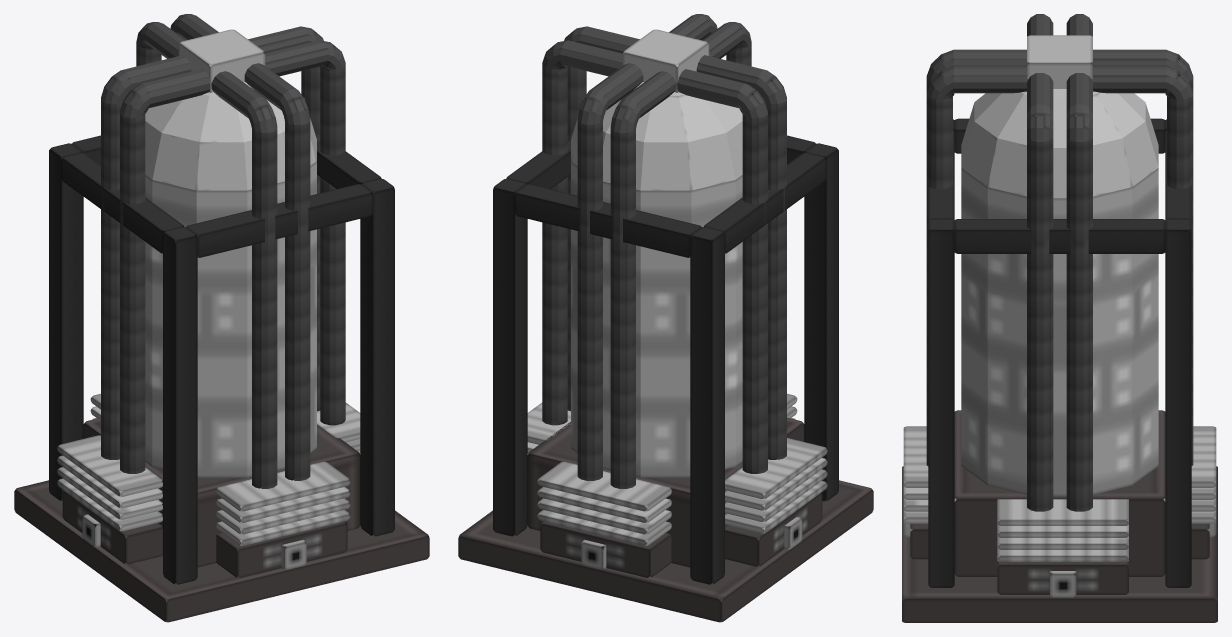
Rendered from industrial_boiler.obj.
The picture shows the model from 3 angles, left to right: view 1: azimuth 30°, elevation 25°; view 2: azimuth 150°, elevation 25°; view 3: azimuth 270°, elevation 25°; orthographic projection. The views are drawn at different scales.
Visible parts, largest first — view 1: cylinder; view 2: cylinder; view 3: cylinder.
Boxes of the visible parts, x1,y1,x2,y2 form: cylinder: (14, 14, 429, 622); cylinder: (458, 14, 873, 622); cylinder: (902, 14, 1217, 622).
Bounding box in the file's own units: 3 × 5.31 × 3.
